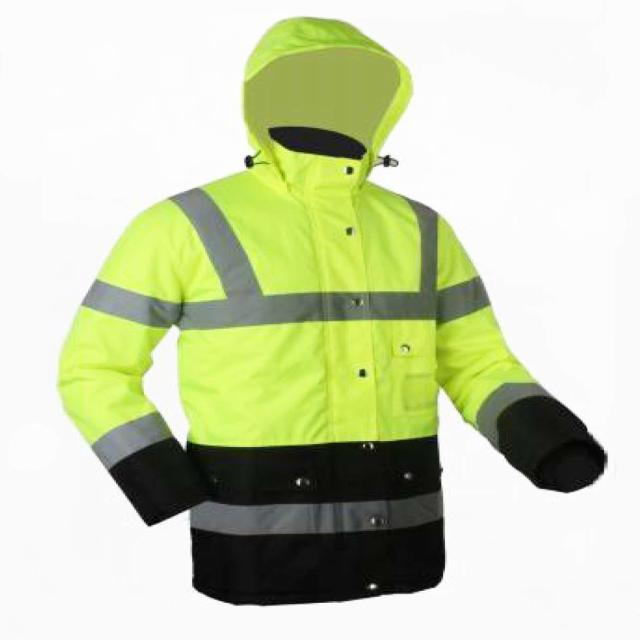Reflective-Jacket: (52, 163, 520, 475)
